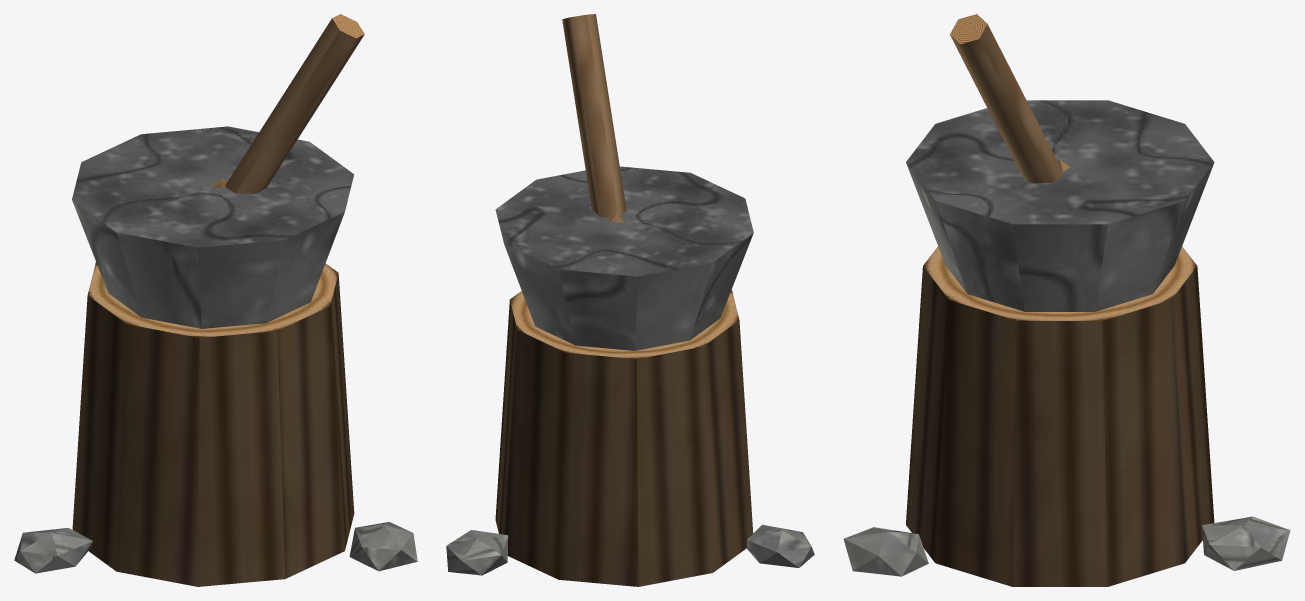
Rendered from mortar.glb.
The picture shows the model from 3 angles, left to right: view 1: azimuth 30°, elevation 25°; view 2: azimuth 150°, elevation 25°; view 3: azimuth 270°, elevation 25°; orthographic projection. The views are drawn at different scales.
Visible parts, largest first — view 1: mortar; view 2: mortar; view 3: mortar.
Boxes of the visible parts, x1,y1,x2,y2 form: mortar: (14,14,417,586); mortar: (446,14,814,586); mortar: (843,14,1290,586).
Size of the model in its own units: 0.6898 by 1.07 by 0.7819.
Materials: 1 (1 with a texture image).
